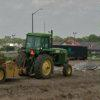Tractor: (18, 22, 89, 88)
